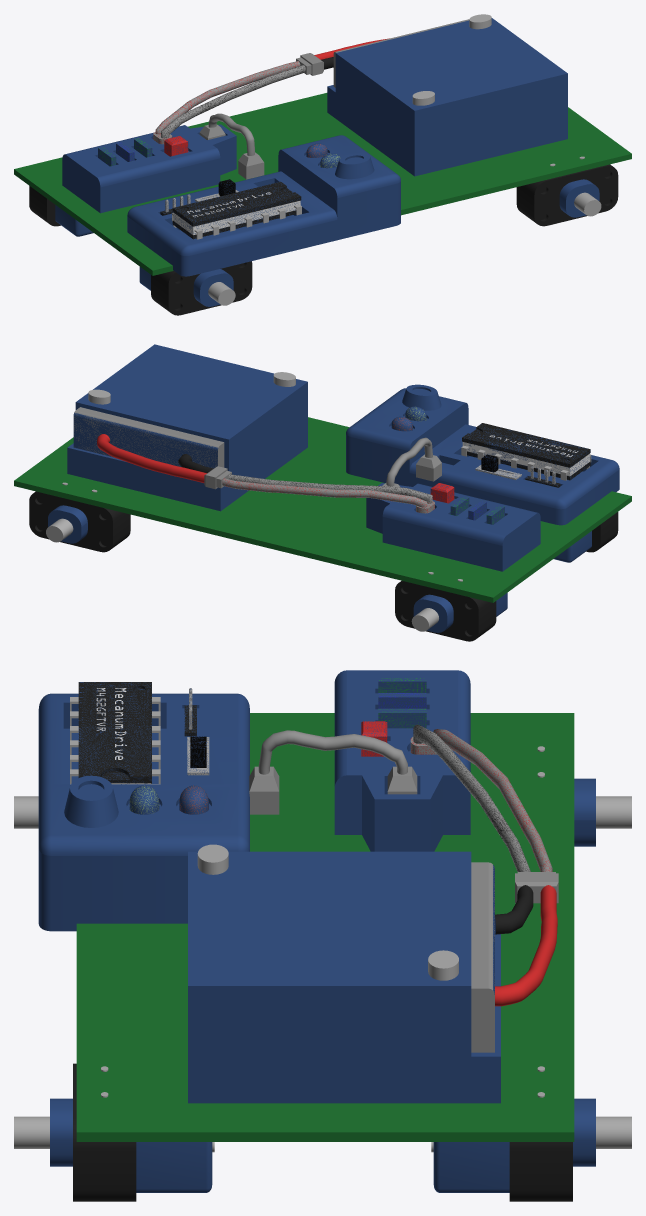
Rendered from chasis.dae.
3 renders of one model, top to bottom at view 1: azimuth 30°, elevation 25°; view 2: azimuth 150°, elevation 25°; view 3: azimuth 270°, elevation 25°, orthographic. The views are drawn at different scales.
Visible parts, largest first — view 1: group_4, box (×7), group_1, group_2, group_6 (×3), group_10 (×3), group_7 (×3), group_9 (×2); view 2: group_4 (×4), group_1, box (×7), group_2, group_9 (×3), group_8 (×3), group_10 (×2), group_7 (×2); view 3: group_4 (×5), group_1, box (×11), group_2 (×4), group_6 (×4), group_8 (×4), group_10, group_9 (×2), group_5, group_3, group_7.
Boxes of the visible parts, x1,y1,x2,y2 form: group_4: (327,18,567,176); box (×7): (127,61,400,276); group_1: (14,93,631,275); group_2: (62,124,236,213); group_6 (×3): (516,164,618,226); group_10 (×3): (172,181,301,239); group_7 (×3): (151,261,252,315); group_9 (×2): (29,186,93,236); group_4 (×4): (67,344,307,511); group_1: (14,417,631,602); box (×7): (222,388,619,525); group_2: (366,483,540,571); group_9 (×3): (395,581,496,641); group_8 (×3): (29,491,130,552); group_10 (×2): (462,423,590,476); group_7 (×2): (554,512,618,562); group_4 (×5): (188,851,558,1103); group_1: (76,713,574,1141); box (×11): (38,693,552,931); group_2 (×4): (334,670,470,851); group_6 (×4): (14,1063,212,1201); group_8 (×4): (433,1098,631,1201); group_10: (78,682,151,783); group_9 (×2): (574,778,631,846); group_5: (197,844,228,874); group_3: (428,950,458,980); group_7: (14,796,38,828).
Size of the model in its own units: 31.5 by 19.62 by 7.72.
